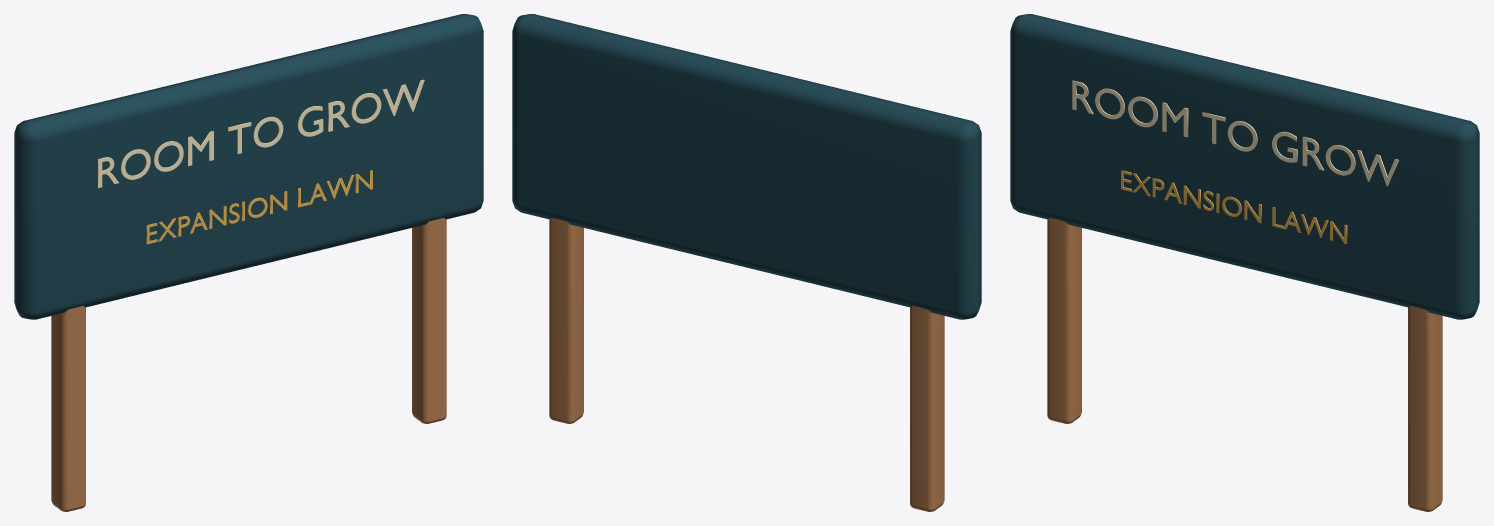
Rendered from expansion-sign.glb.
3 views of the same model, side by side, from view 1: azimuth 30°, elevation 25°; view 2: azimuth 150°, elevation 25°; view 3: azimuth 330°, elevation 25° (orthographic).
Visible parts, largest first — view 1: Expansion board, Sign leg.001, Sign leg, ROOM TO GROW, EXPANSION LAWN; view 2: Expansion board, Sign leg.001, Sign leg; view 3: Expansion board, Sign leg, Sign leg.001, ROOM TO GROW, EXPANSION LAWN.
Part boxes in pixels (bbox=[...]): Expansion board: bbox=[14, 14, 483, 319]; Sign leg.001: bbox=[412, 218, 446, 423]; Sign leg: bbox=[51, 306, 85, 511]; ROOM TO GROW: bbox=[98, 79, 424, 187]; EXPANSION LAWN: bbox=[146, 170, 372, 244]; Expansion board: bbox=[512, 14, 981, 319]; Sign leg.001: bbox=[549, 218, 583, 423]; Sign leg: bbox=[910, 306, 944, 511]; Expansion board: bbox=[1010, 14, 1479, 319]; Sign leg: bbox=[1047, 218, 1081, 423]; Sign leg.001: bbox=[1408, 306, 1442, 511]; ROOM TO GROW: bbox=[1072, 80, 1398, 186]; EXPANSION LAWN: bbox=[1121, 170, 1347, 244].
Bounding box in the file's own units: 1.85 × 1.5 × 0.137.
